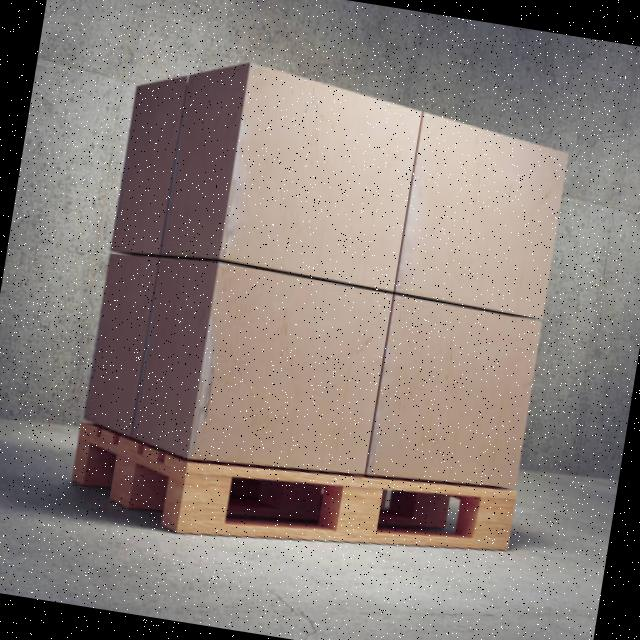Wooden-Pallets: (62, 412, 522, 560)
